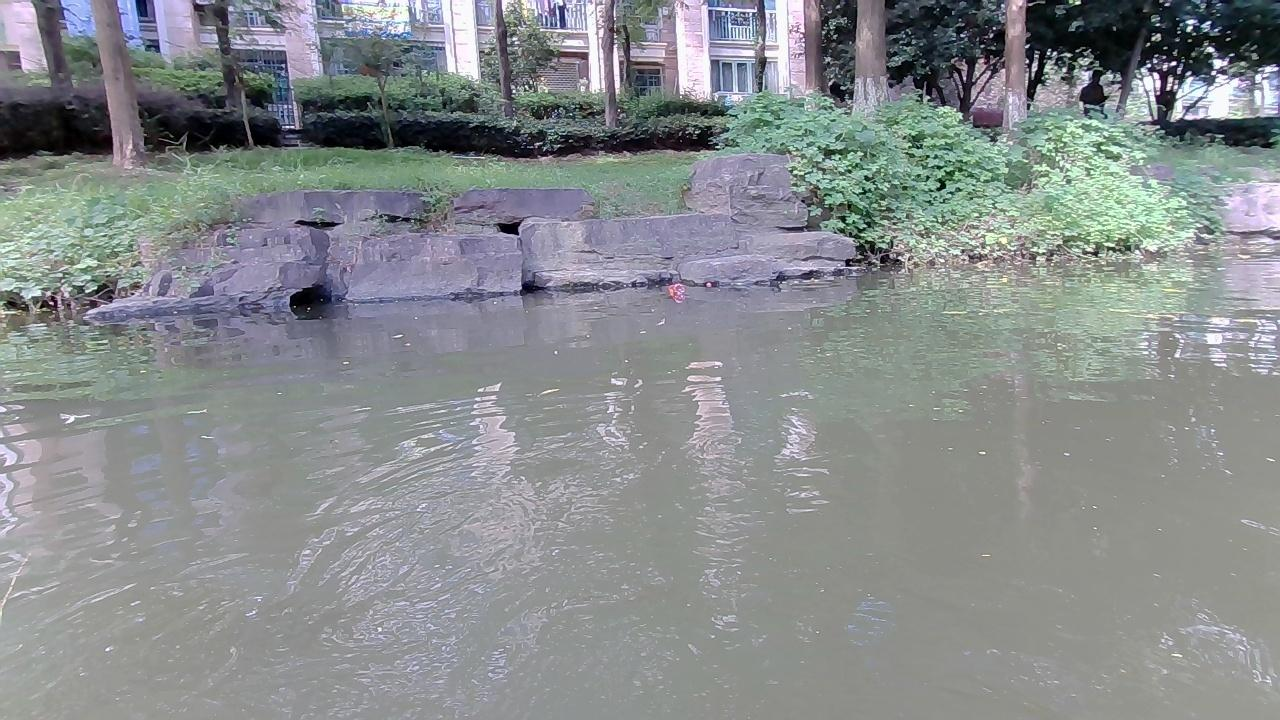bottle: (667, 282, 689, 301)
